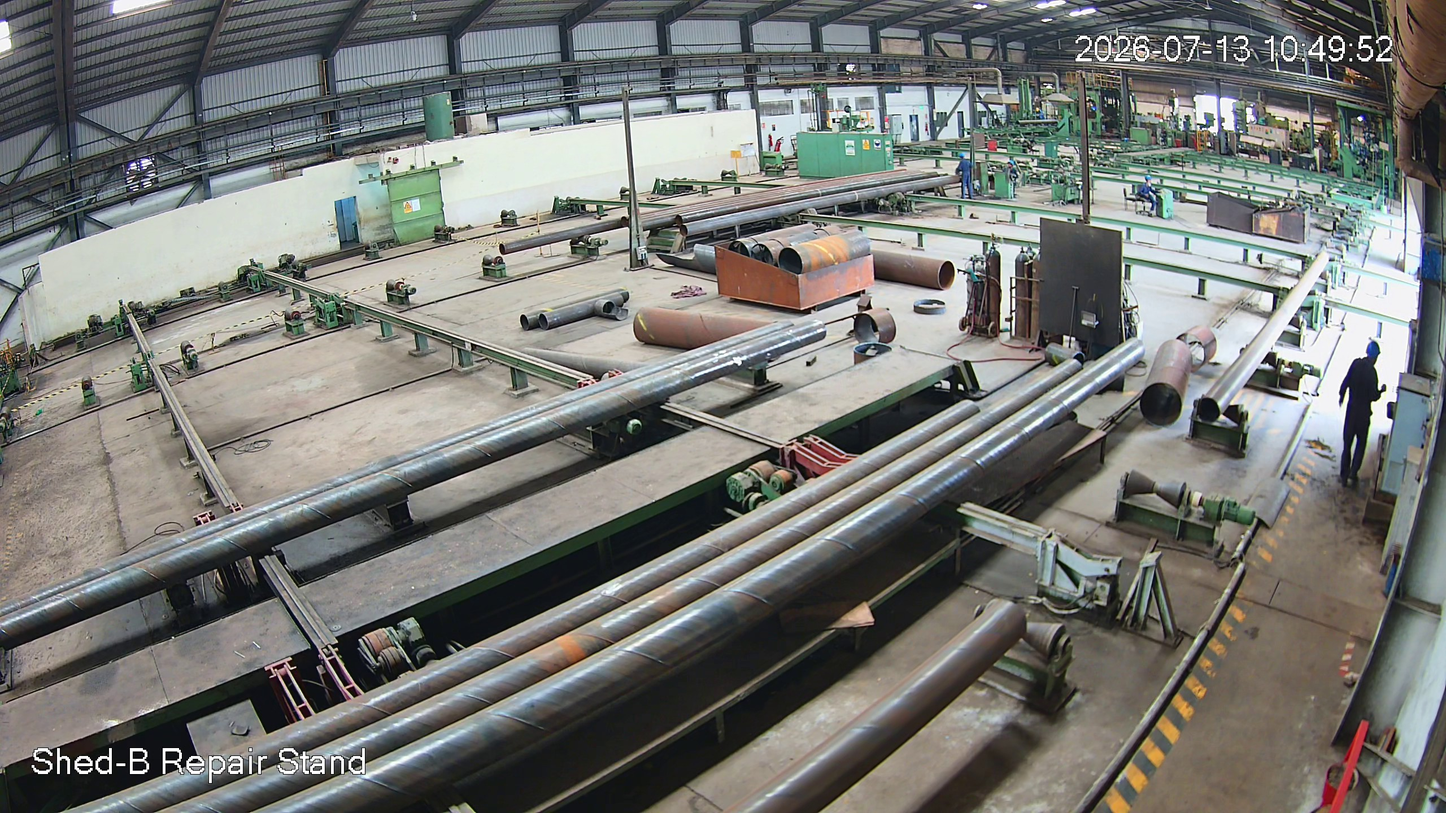Helmet: (1362, 339, 1382, 371)
Person: (1337, 342, 1384, 488)
